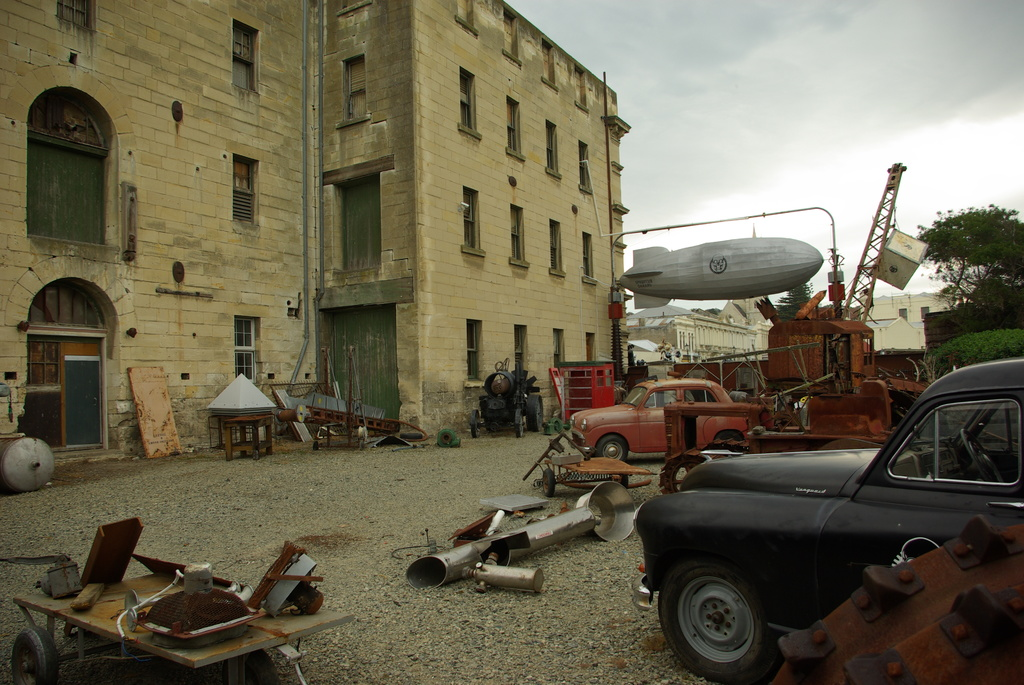Car: (632, 354, 1023, 681), (564, 373, 753, 457)
